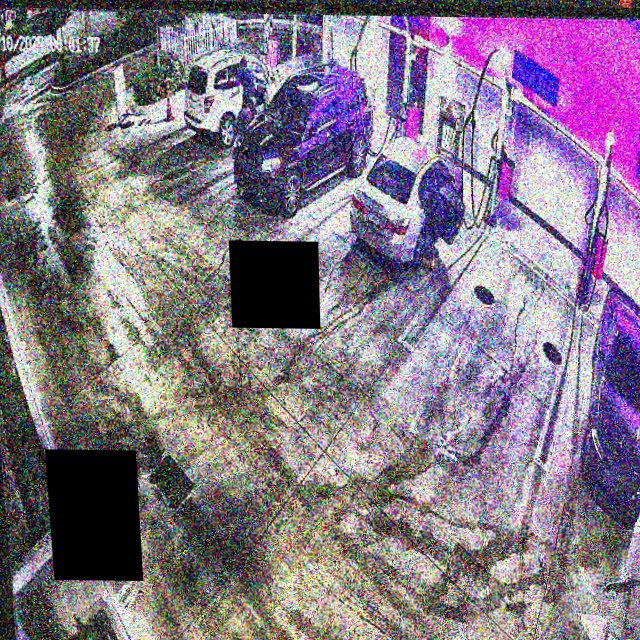Car: (231, 58, 373, 220), (349, 137, 463, 266)
